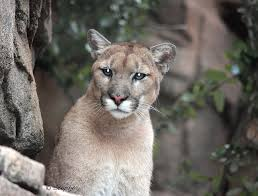Mountain Lion: (84, 24, 179, 126)
